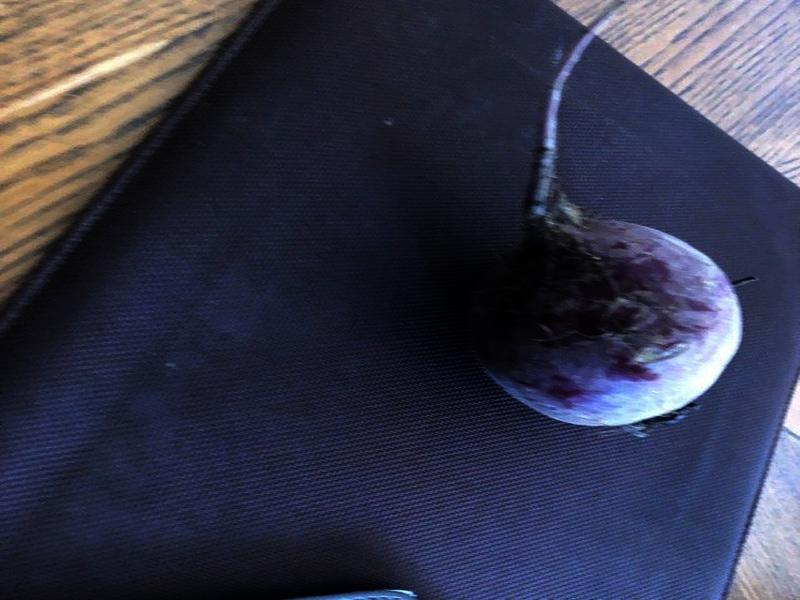Beet: (468, 3, 740, 426)
